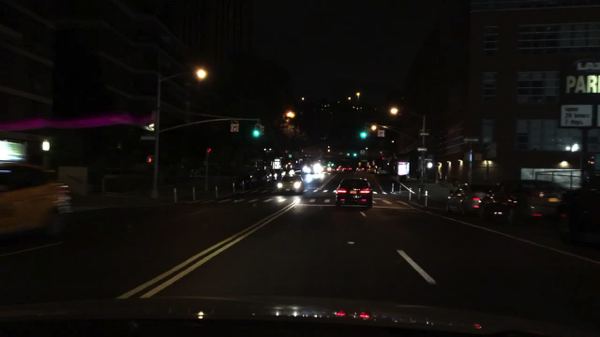car: (0, 139, 73, 241), (480, 178, 567, 225), (555, 178, 599, 237), (444, 183, 489, 219), (333, 178, 375, 209), (275, 173, 303, 198), (237, 174, 256, 187), (257, 169, 272, 184), (303, 166, 321, 174), (274, 167, 285, 180), (376, 167, 389, 177), (324, 165, 337, 173), (366, 166, 377, 174), (286, 168, 296, 176), (355, 165, 364, 172), (343, 166, 351, 172)
traffic light: (423, 162, 433, 171), (253, 124, 260, 136), (360, 128, 367, 138), (147, 155, 154, 162), (207, 147, 212, 155), (261, 126, 264, 136), (346, 152, 350, 158), (354, 152, 357, 157)
traffic sign: (463, 137, 478, 143), (231, 124, 239, 133), (142, 137, 155, 142), (378, 130, 386, 138), (419, 132, 429, 136), (417, 148, 426, 152), (422, 159, 431, 162), (359, 160, 368, 162)
